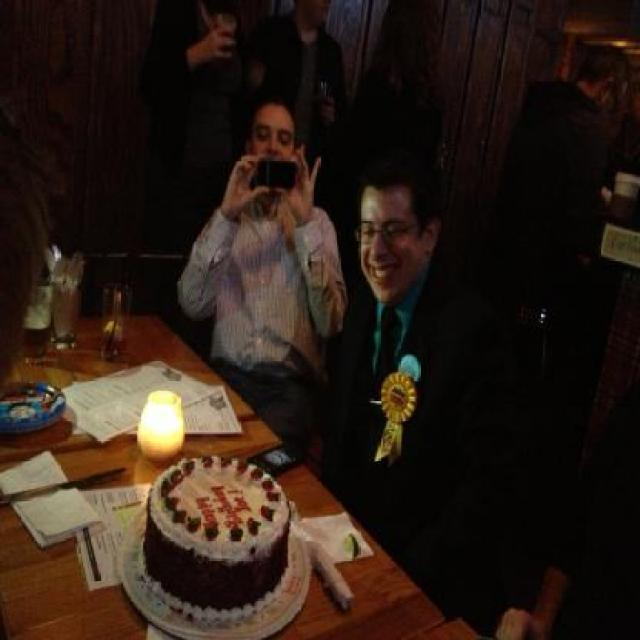Cake: (140, 456, 292, 619)
